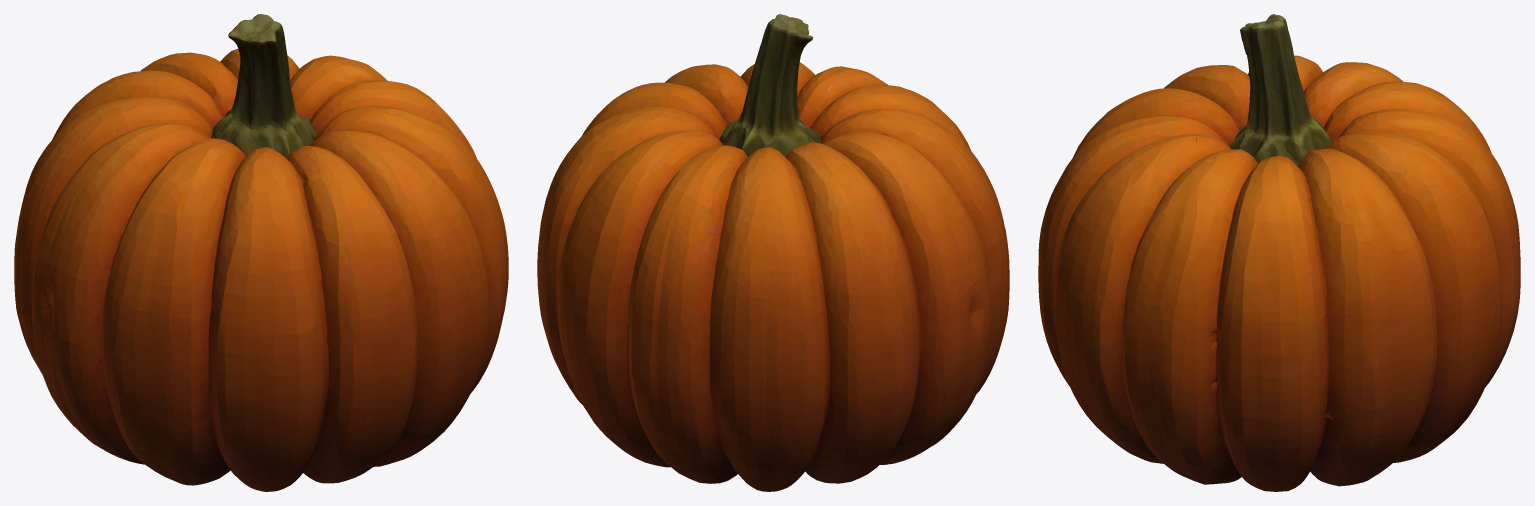
The model's file is pumpkin1.glb.
3 views of the same model, side by side, from view 1: azimuth 30°, elevation 25°; view 2: azimuth 150°, elevation 25°; view 3: azimuth 270°, elevation 25° (orthographic). The views are drawn at different scales.
Visible parts, largest first — view 1: world; view 2: world; view 3: world.
Part boxes in pixels (left/top/right/bottom): world: left=14, top=14, right=508, bottom=491; world: left=537, top=14, right=1009, bottom=491; world: left=1038, top=14, right=1520, bottom=491.
Bounding box in the file's own units: 0.9934 × 0.9782 × 0.9988.
Materials: 1 (1 with a texture image).
